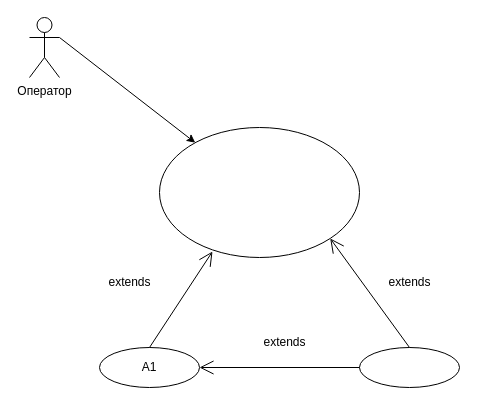
The diagram is 477 pixels wide and 405 high, and some of its shapes have lost their labels. The centre of each missing label's shape, as x and y in pixels:
A2: (x=409, y=367)
получить сведения о постояльце из заданного номера: (x=259, y=192)
